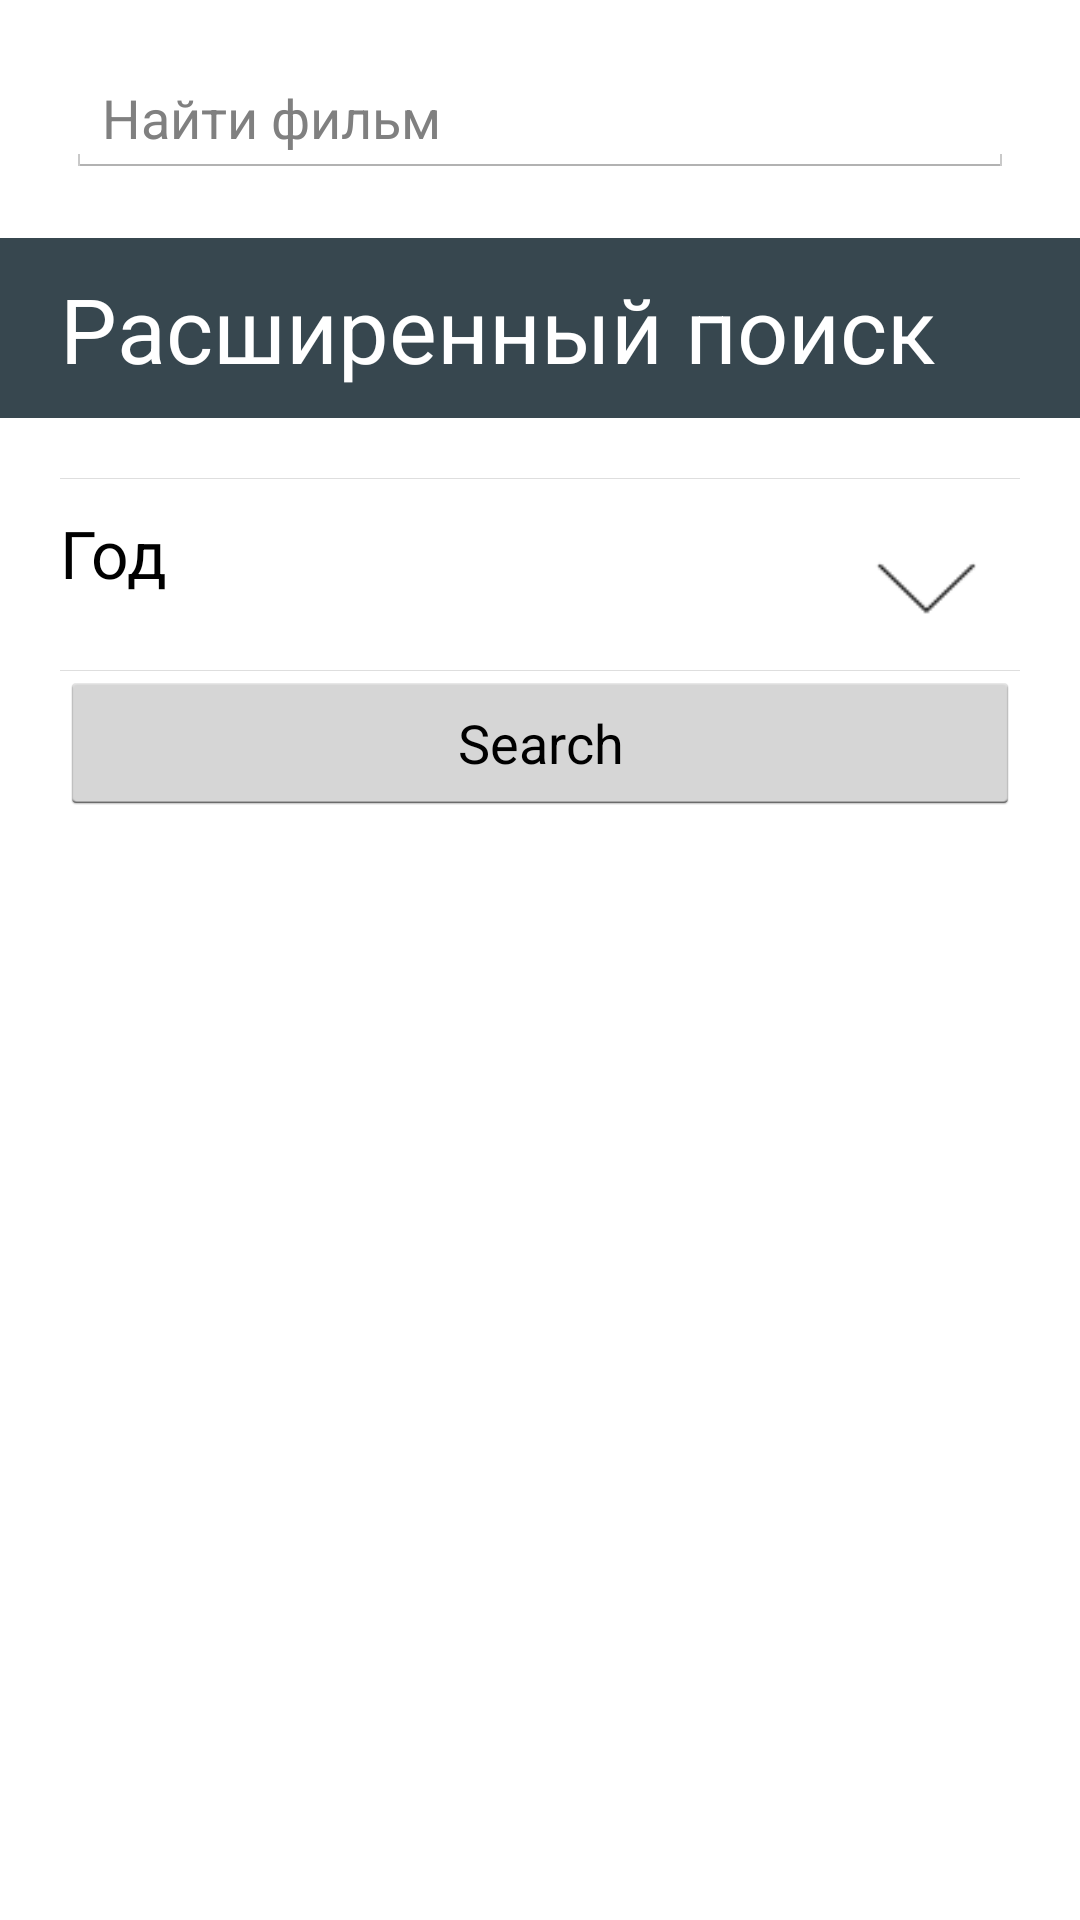

Icons on this 1080w x 1920h Android screen, each with its box as box=[x1, y1, x2, y2]:
arr down: box=[877, 564, 976, 614]
